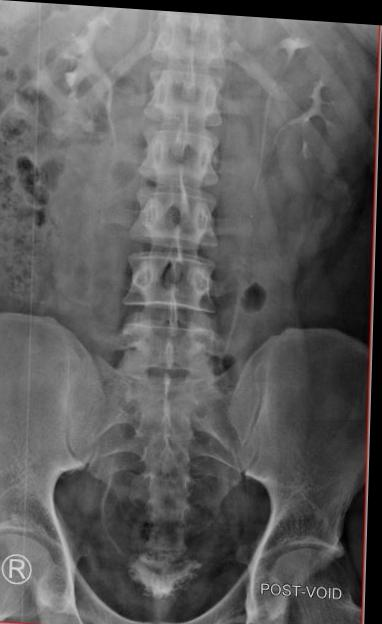bladder: (80, 524, 240, 623)
vertebrae: (143, 65, 227, 128)
